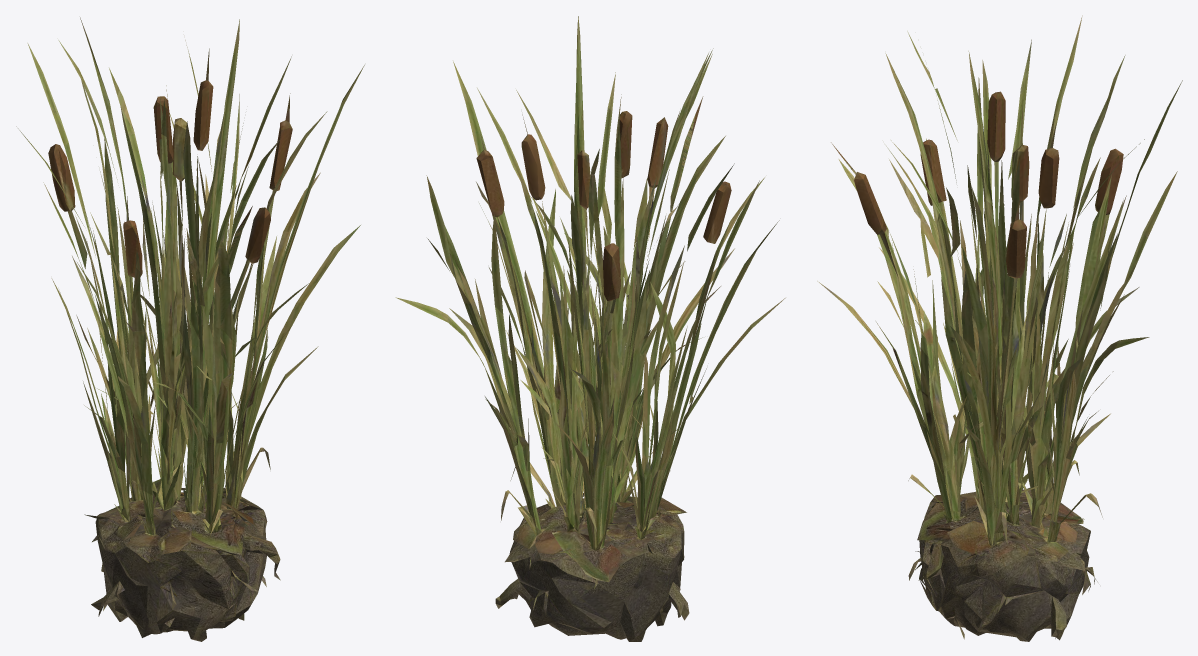
The model's file is sp_m_cattails.glb.
3 views of the same model, side by side, from view 1: azimuth 30°, elevation 25°; view 2: azimuth 150°, elevation 25°; view 3: azimuth 270°, elevation 25° (orthographic). The views are drawn at different scales.
Parts seen in each view (by area): view 1: Mesh_0; view 2: Mesh_0; view 3: Mesh_0.
Part boxes in pixels (<box>): Mesh_0: <box>16,17,364,641</box>; Mesh_0: <box>395,16,785,641</box>; Mesh_0: <box>817,15,1182,641</box>.
Bounding box in the file's own units: 1.06 × 1.9 × 1.07.
1 material, 1 textured.
